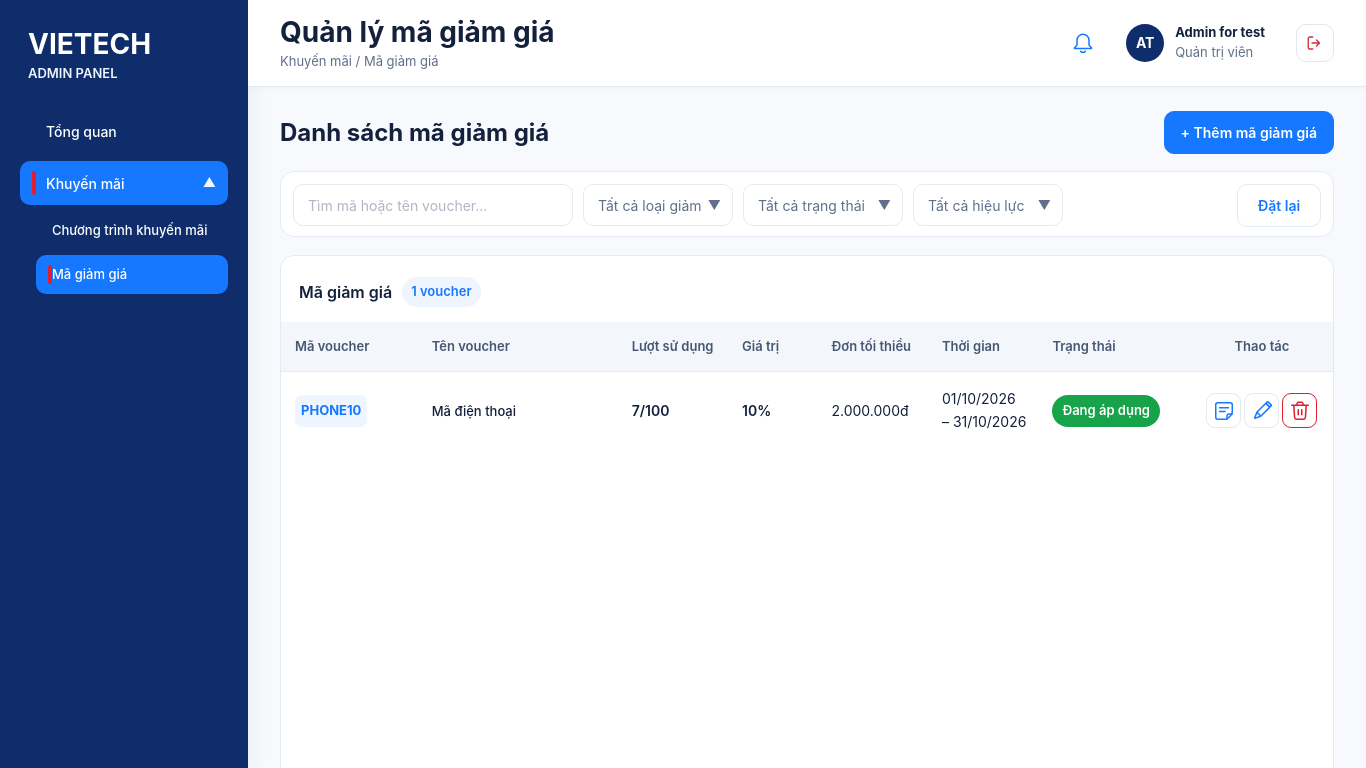
Test: deletion requires confirmation, deletes the coupon only and refreshes the list
This screenshot has width=1366, height=768.
Step 1. Click the button named "Xóa mã PHONE10" → (1300, 411), box [1282,393,1318,428]
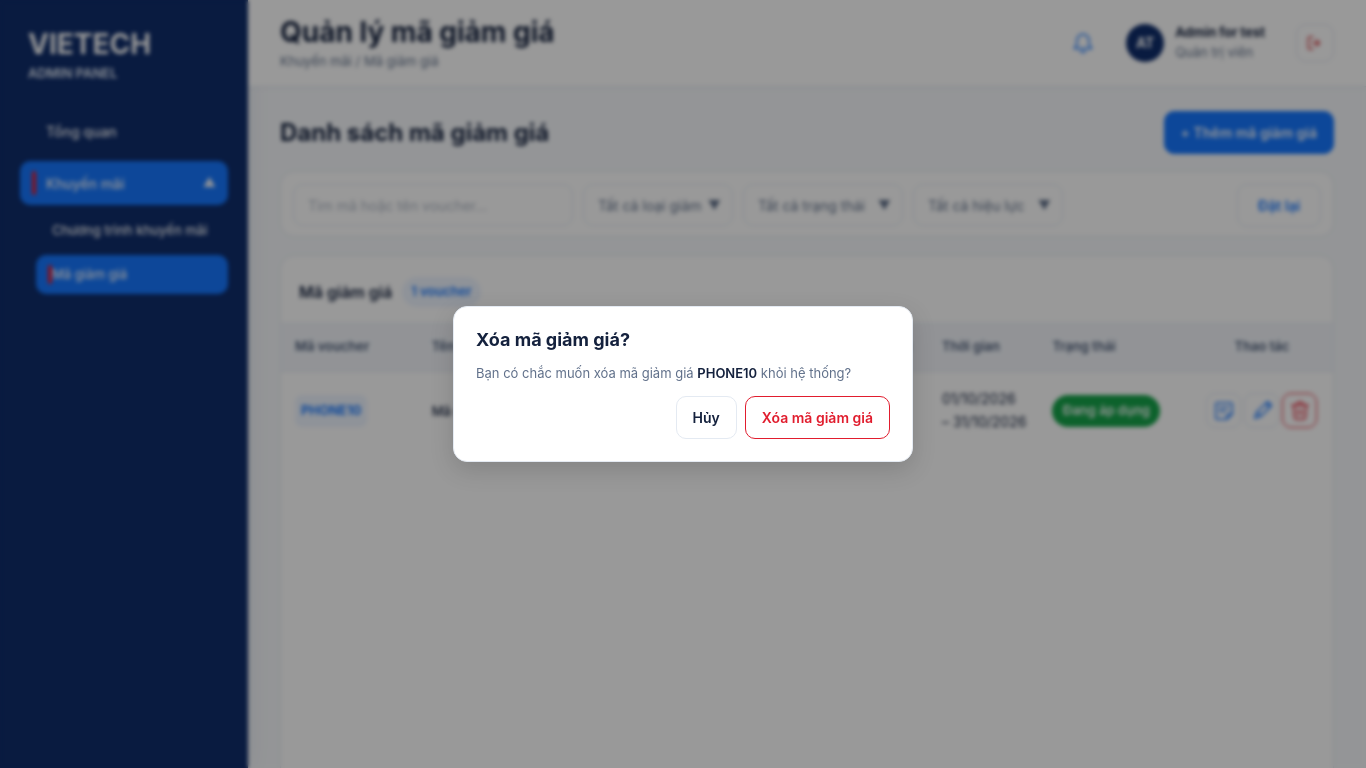
Expected: the dialog "Xóa mã giảm giá?" is shown, [453,306,913,462]
Step 2. Click the button "Xóa mã giảm giá" → (817, 418), box [745,396,890,439]
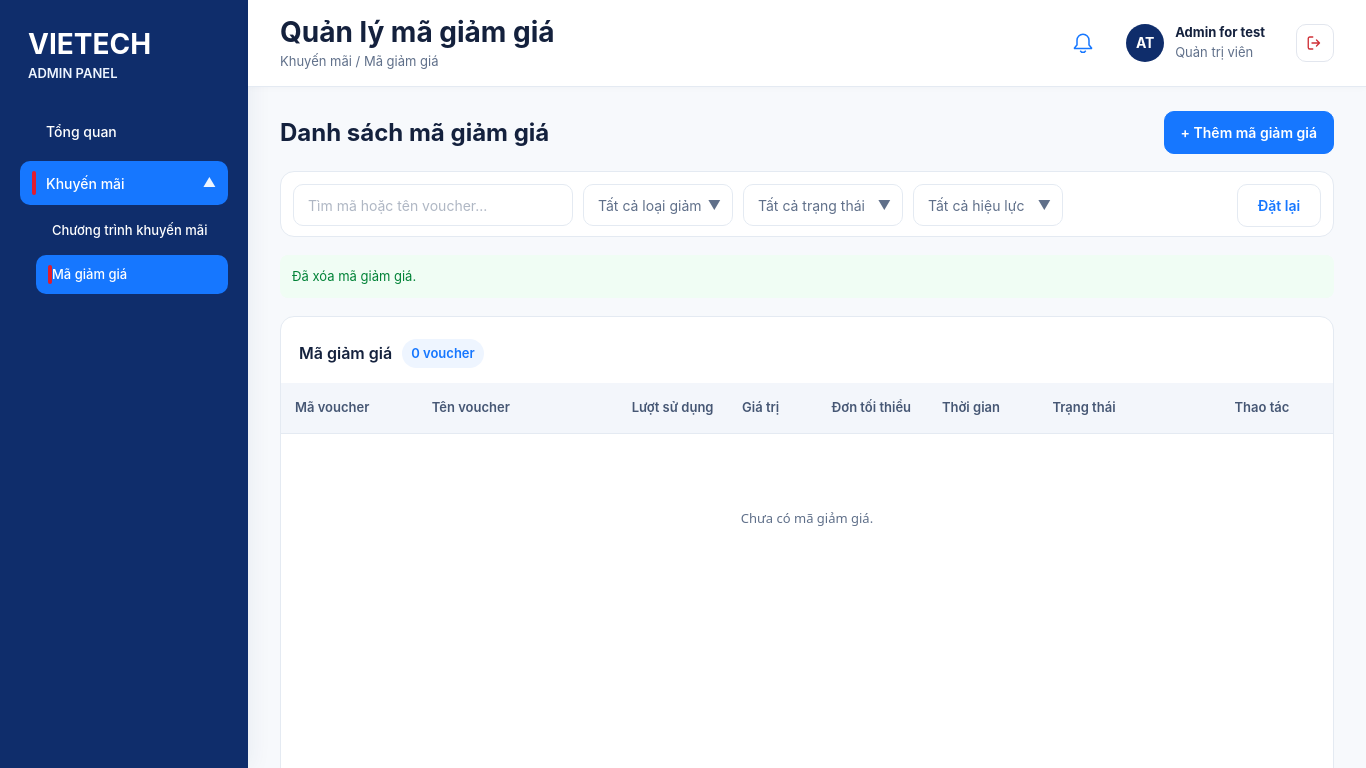
Expected: the text "Đã xóa mã giảm giá." is shown, [280,255,1334,298]
Expected: the heading "Chưa có mã giảm giá." is shown, [741,509,873,529]
